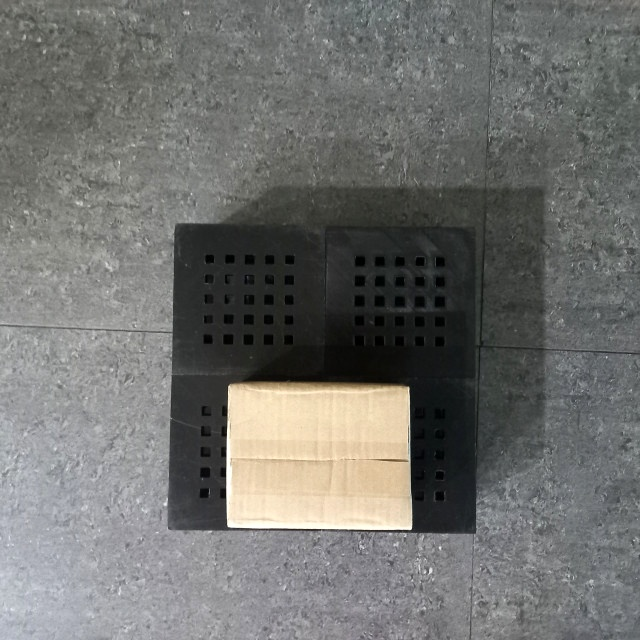box: (224, 379, 415, 531)
pallet: (166, 217, 482, 541)
